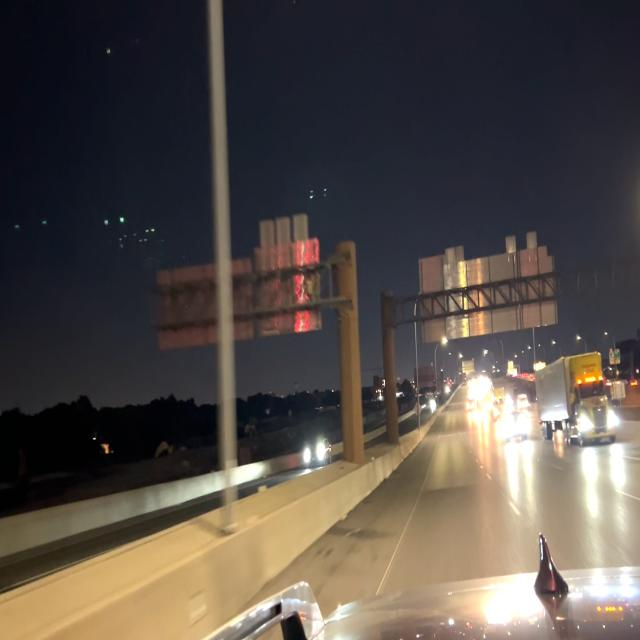back-of-sign: (158, 212, 323, 349), (416, 232, 558, 345)
